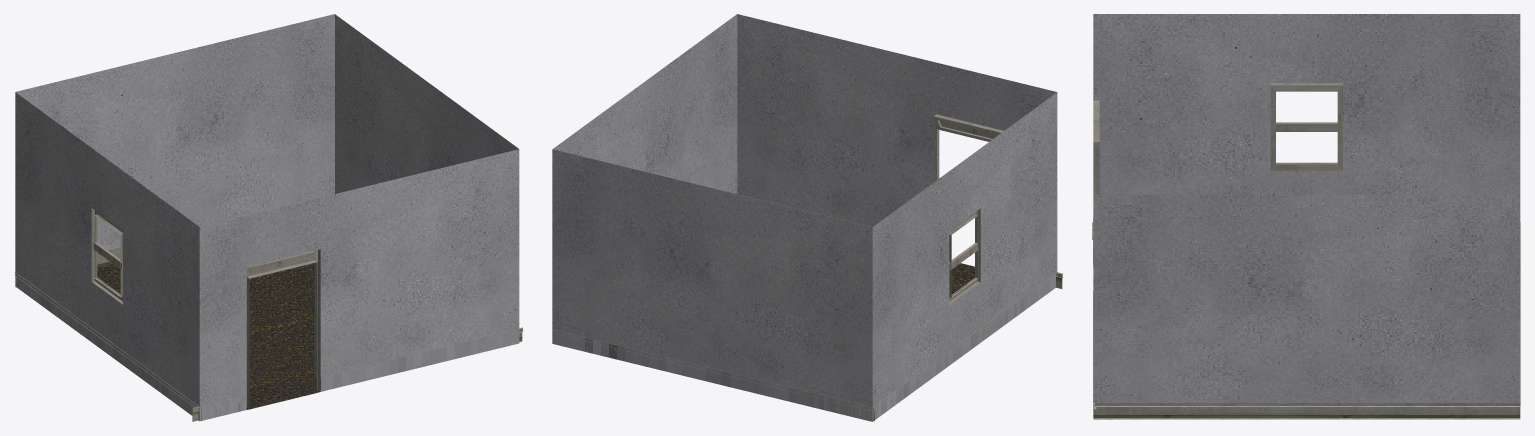
Rendered from room.glb.
The picture shows the model from 3 angles, left to right: view 1: azimuth 30°, elevation 25°; view 2: azimuth 150°, elevation 25°; view 3: azimuth 270°, elevation 25°; orthographic projection. The views are drawn at different scales.
Parts seen in each view (by area): view 1: room-col; view 2: room-col; view 3: room-col.
Boxes of the visible parts, <box> form: room-col: <box>14,14,523,421</box>; room-col: <box>552,14,1062,421</box>; room-col: <box>1092,14,1520,419</box>.
Bounding box in the file's own units: 12.89 × 7.26 × 12.52.
3 materials, 3 textured.
